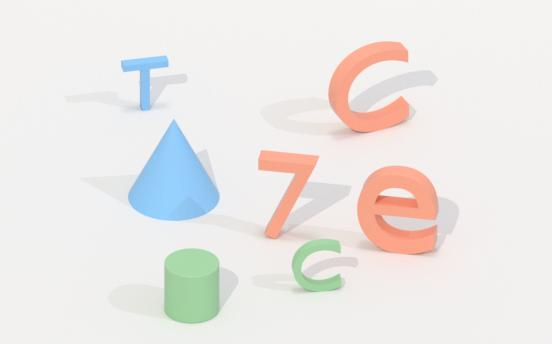7: (256, 148, 321, 243)
c: (327, 38, 413, 135), (291, 234, 346, 296)
e: (354, 163, 439, 255)
non: (126, 117, 222, 225)
t-hoa: (117, 54, 172, 117)
tru: (161, 244, 224, 326)
